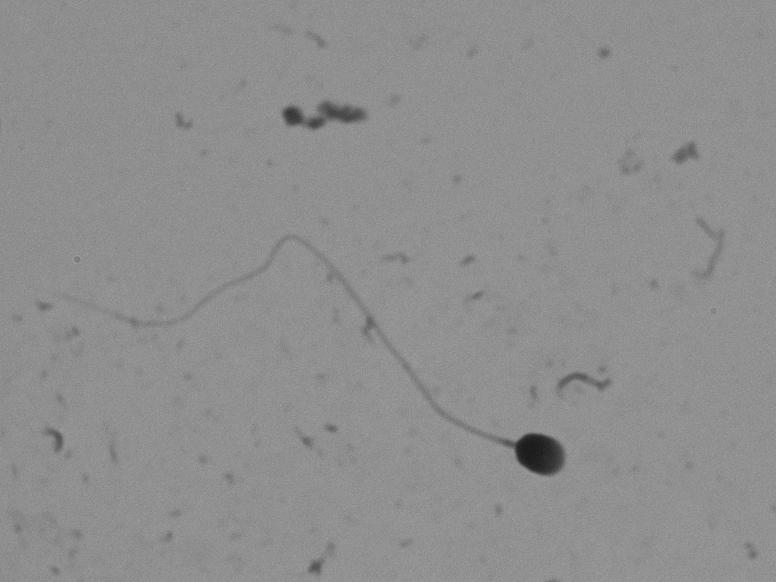Normal: (41, 181, 601, 523)
